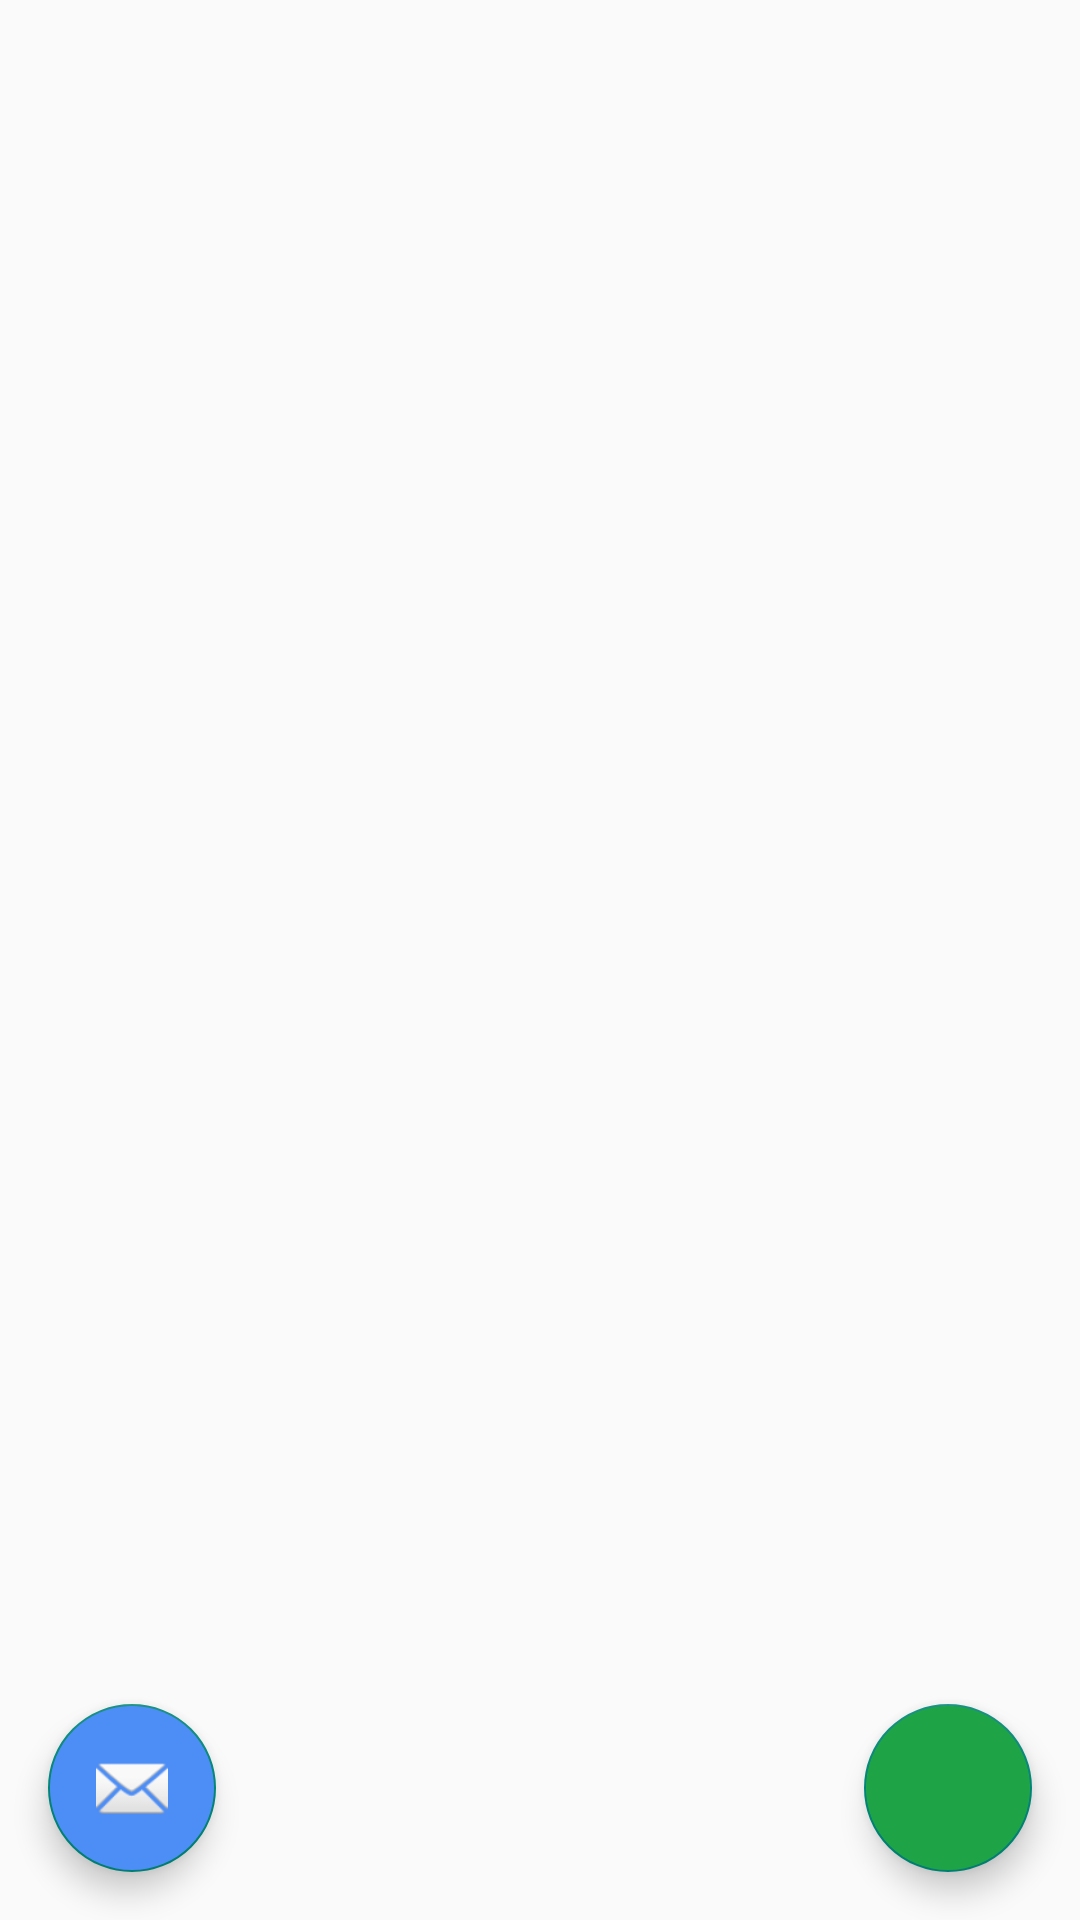

Named icons in this screenshot (1080px×1920px) and their centers, point (x, y):
send-mail: point (132, 1788)
